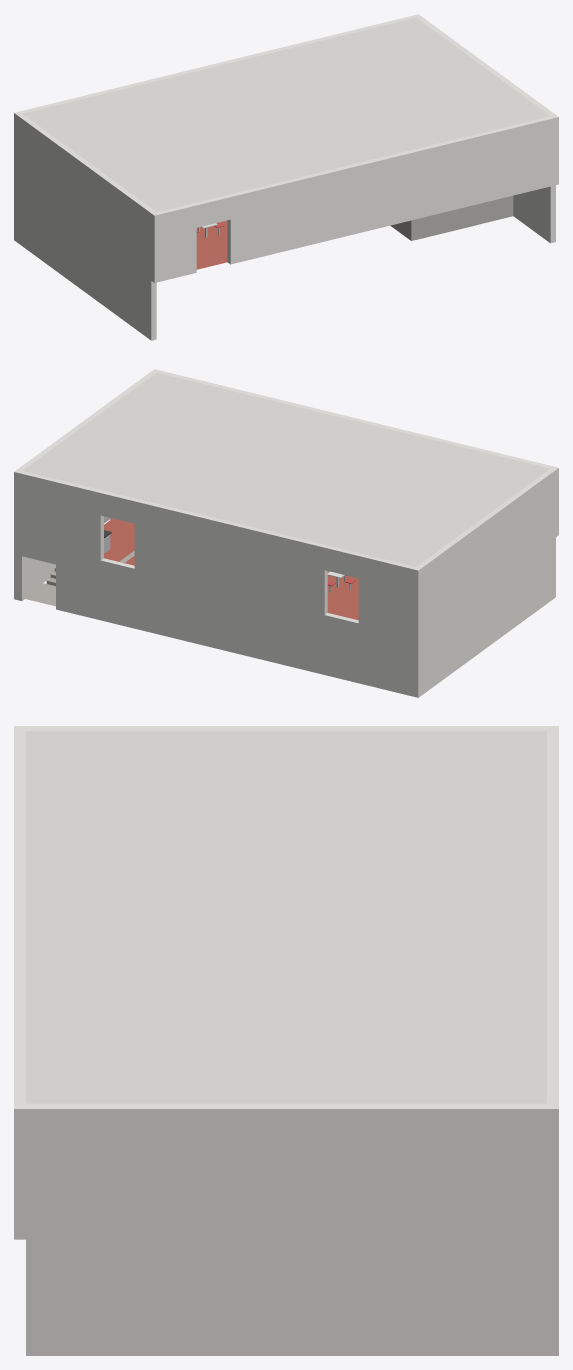
Rendered from burger2.glb.
The picture shows the model from 3 angles, top to bottom: view 1: azimuth 30°, elevation 25°; view 2: azimuth 150°, elevation 25°; view 3: azimuth 270°, elevation 25°; orthographic projection. The views are drawn at different scales.
Parts seen in each view (by area): view 1: burger2; view 2: burger2; view 3: burger2.
Boxes of the visible parts, x1,y1,x2,y2 form: burger2: (14,14,558,340); burger2: (14,369,558,697); burger2: (14,726,558,1355).
Size of the model in its own units: 22.6 by 6.81 by 13.6.
